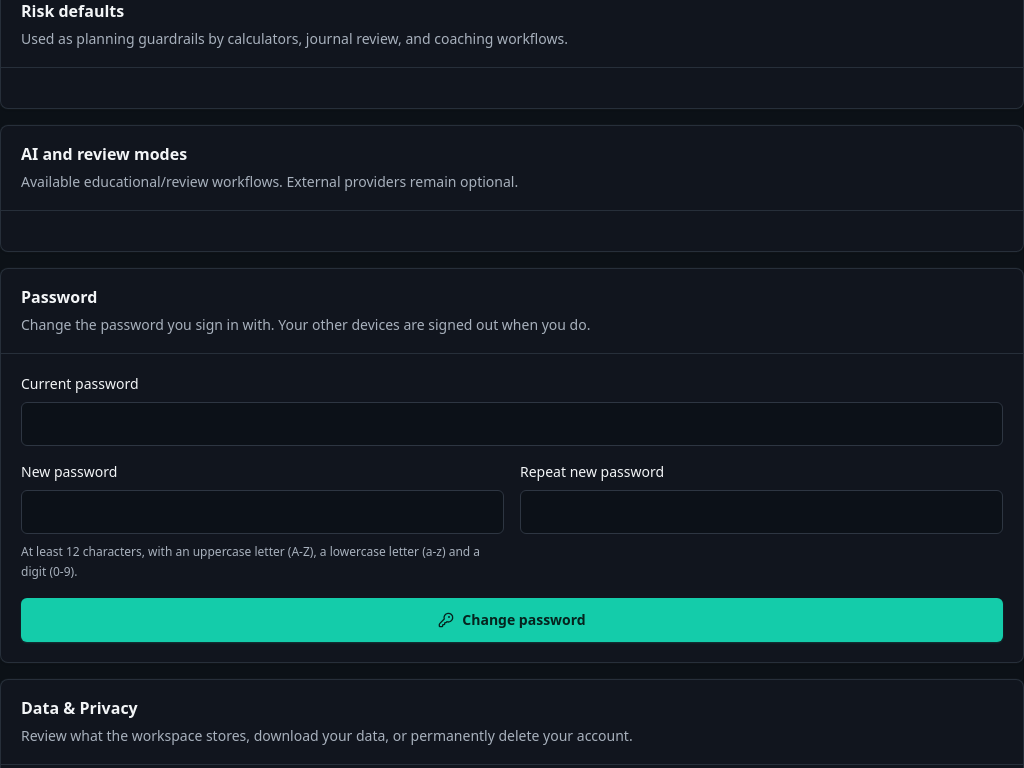
Test: Settings password card (en) › the screen's own checks (nothing is sent) › applies the sign-up rules: no uppercase letter
(page scrolled)
Type "OldPassword123!" into the password field labelled "Current password" at (512, 424), box [21, 402, 1003, 446]
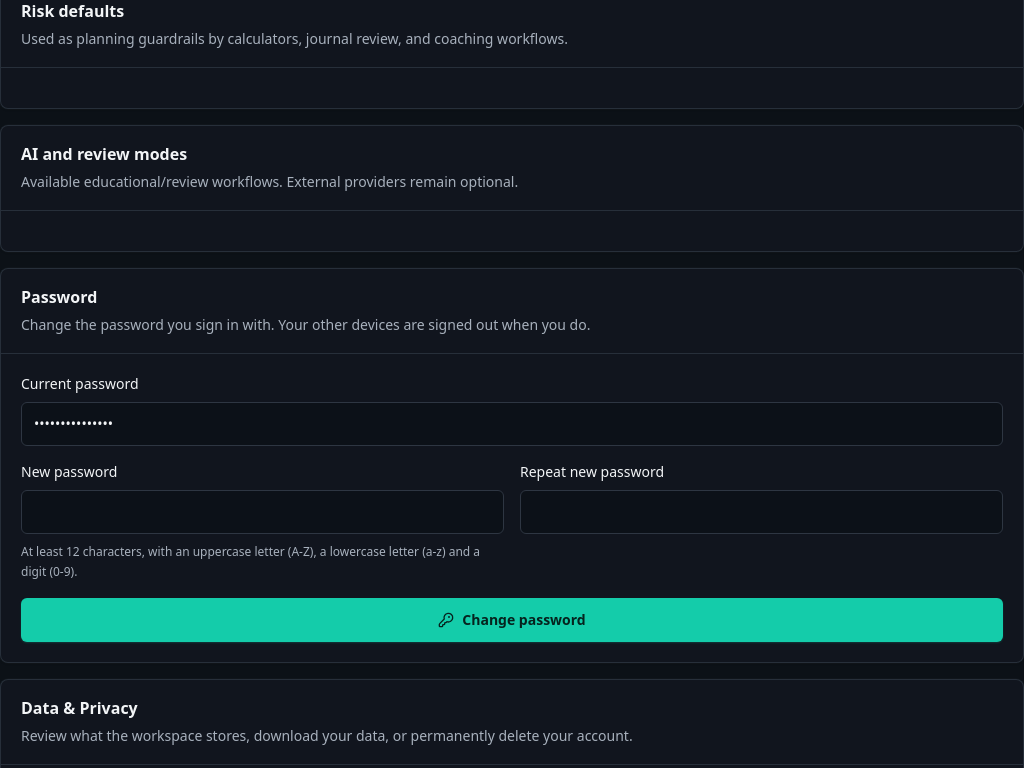
Type "newpassword456!" into the password field labelled "New password" at (262, 512), box [21, 490, 504, 534]
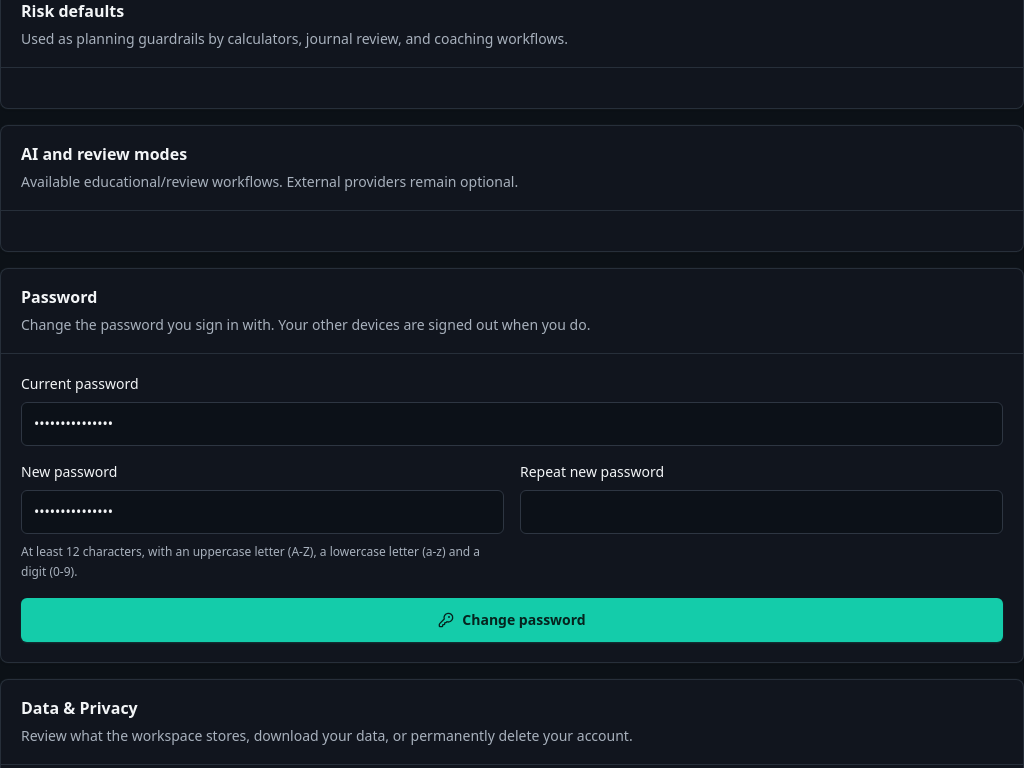
Type "newpassword456!" into the password field labelled "Repeat new password" at (762, 512), box [520, 490, 1003, 534]
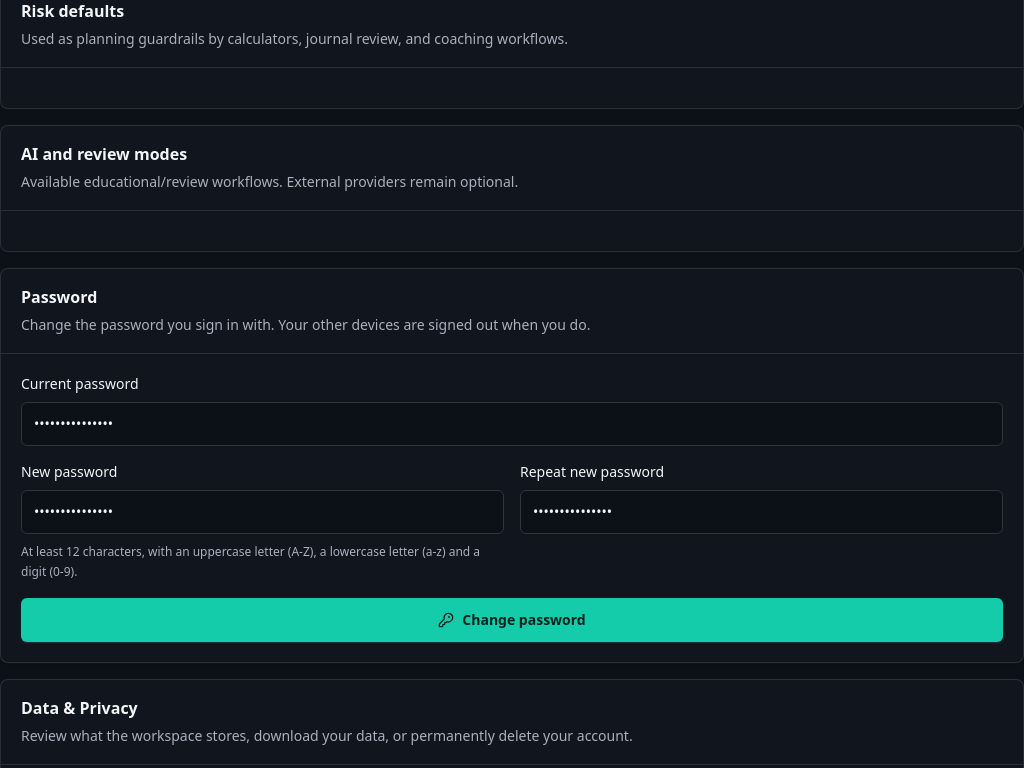
Submit the form labelled "Current password", box [21, 374, 1003, 642]
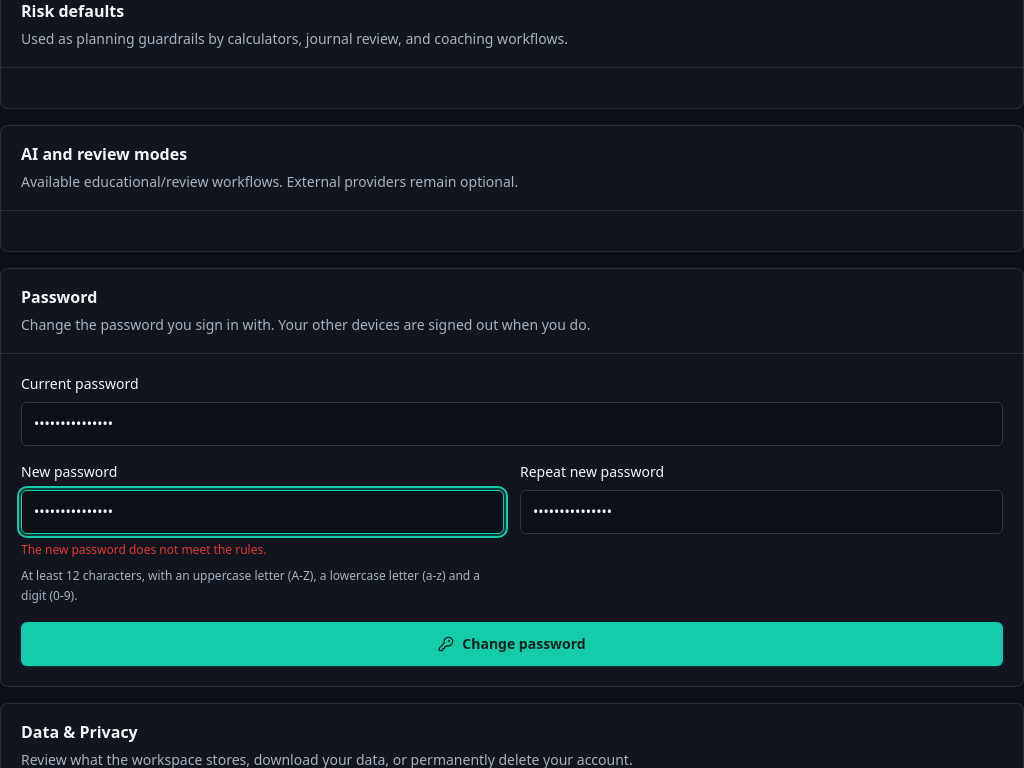
Check: the text "The new password does not meet the rules." is shown, box [21, 541, 266, 558]
